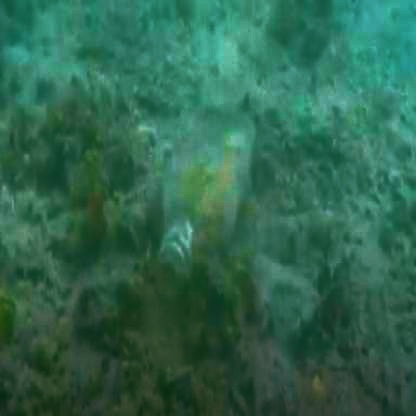pbottle: (152, 97, 247, 317)
